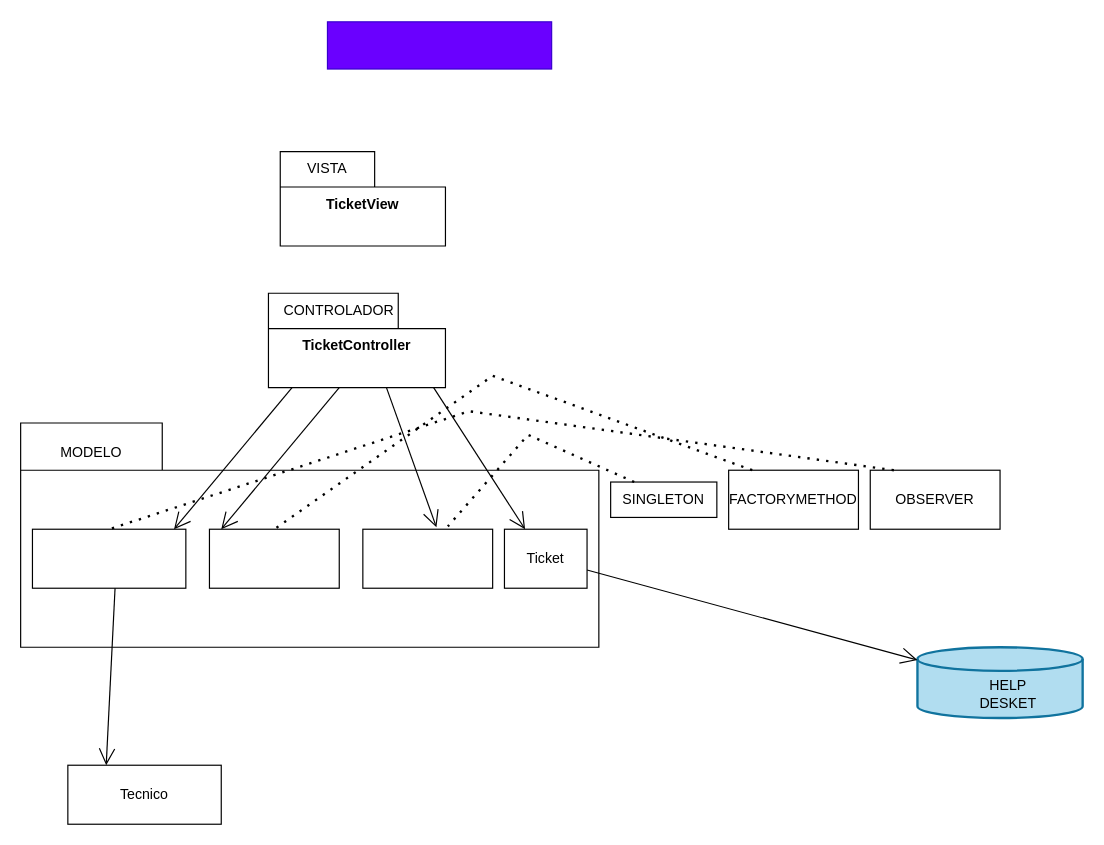
This 1104x845 diagram has some shape labels left out. Here are the shapes that lost their labels. From the top down, the centre of each, then its label:
(x=439, y=45): Diagrama de Arquitectura
(x=108, y=558): SistemaNotificaciones
(x=273, y=558): GestorTicket
(x=427, y=558): TicketF actory
